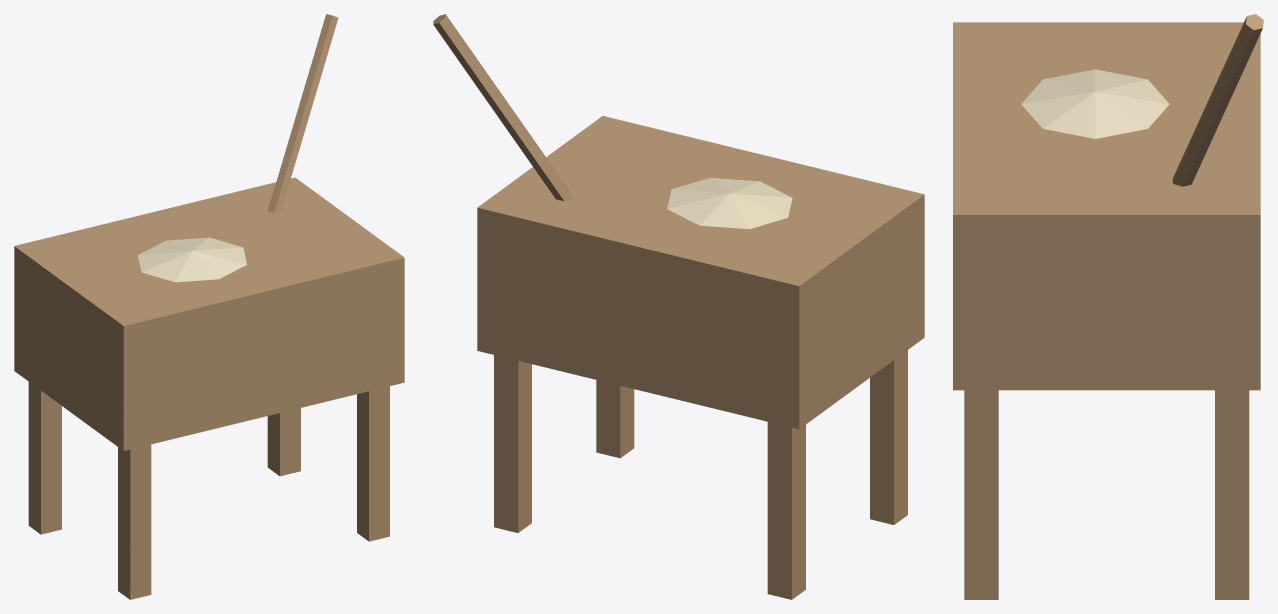
File: golf-course-and-clubhouse-divot-sand-box-a083762e__33477.glb
The picture shows the model from 3 angles, left to right: view 1: azimuth 30°, elevation 25°; view 2: azimuth 150°, elevation 25°; view 3: azimuth 270°, elevation 25°; orthographic projection. The views are drawn at different scales.
Parts seen in each view (by area): view 1: divot-sand-box; view 2: divot-sand-box; view 3: divot-sand-box.
Boxes of the visible parts, left/top/right/bottom form: divot-sand-box: left=14, top=14, right=404, bottom=599; divot-sand-box: left=433, top=14, right=924, bottom=599; divot-sand-box: left=953, top=14, right=1263, bottom=599.
Bounding box in the file's own units: 0.9158 × 1.19 × 0.5458.
